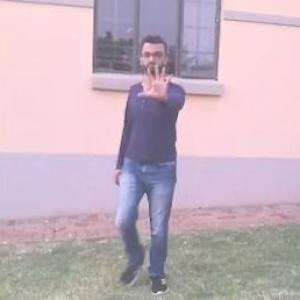follow_hand: (135, 56, 180, 102)
